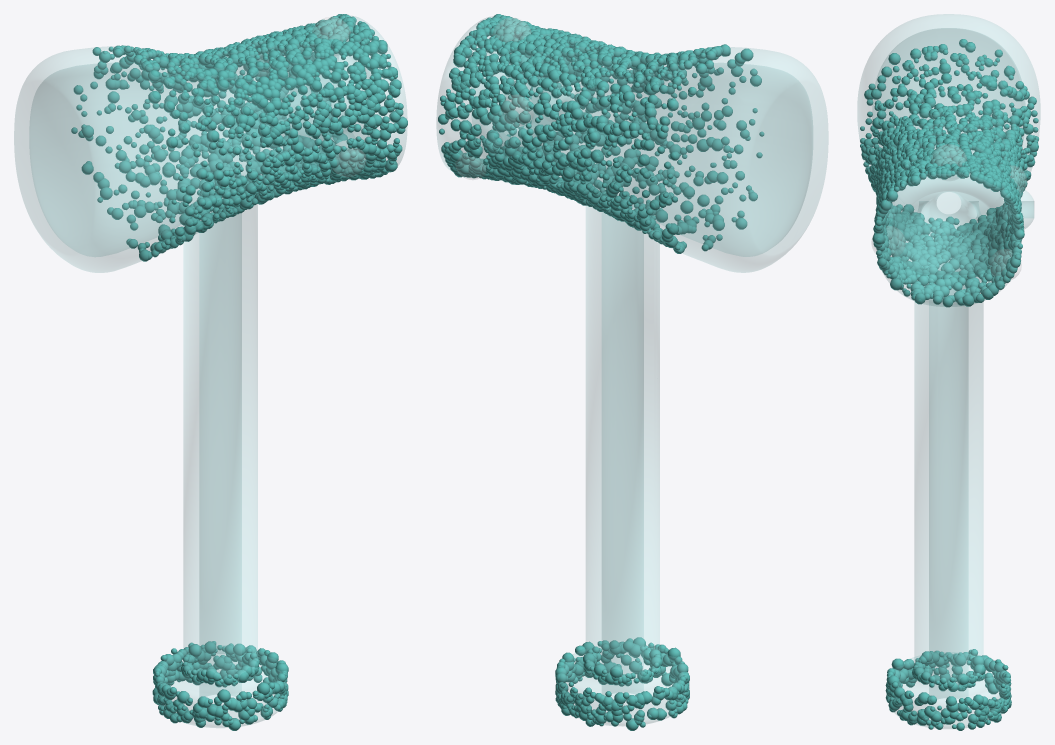
The model's file is hammer_flat_teal_silver.glb.
3 views of the same model, side by side, from view 1: azimuth 30°, elevation 25°; view 2: azimuth 150°, elevation 25°; view 3: azimuth 270°, elevation 25° (orthographic). The views are drawn at different scales.
Parts seen in each view (by area): view 1: body, frit, marbles; view 2: body, frit, marbles; view 3: body, frit, marbles.
Boxes of the visible parts, bbox=[...] form: body: bbox=[14, 16, 407, 727]; frit: bbox=[71, 14, 407, 730]; marbles: bbox=[257, 17, 365, 176]; body: bbox=[436, 16, 828, 726]; frit: bbox=[438, 14, 764, 730]; marbles: bbox=[455, 17, 533, 179]; body: bbox=[857, 14, 1040, 728]; frit: bbox=[860, 39, 1038, 730]; marbles: bbox=[871, 144, 1026, 279].
Size of the model in its own units: 0.0682 by 0.1405 by 0.0371.
